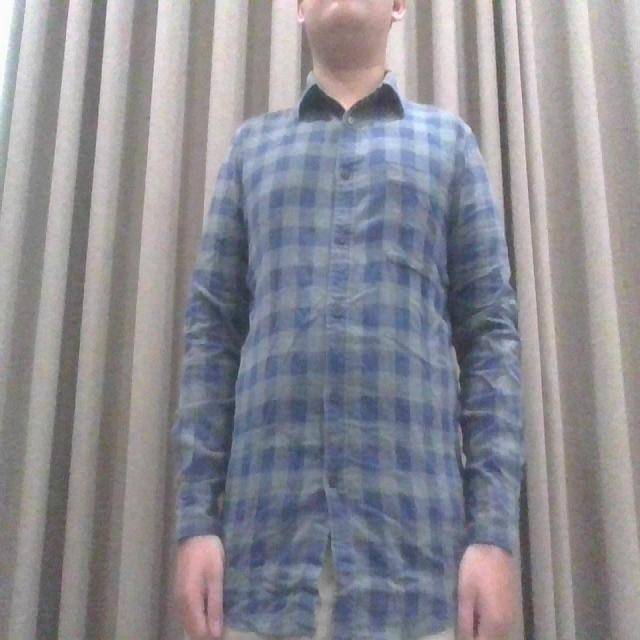long_Sleeve_shirt: (174, 69, 525, 640)
